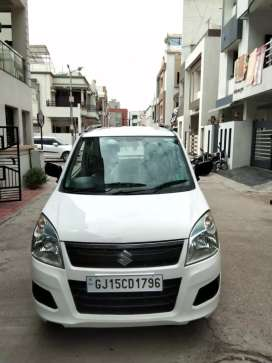license_plate: (86, 276, 164, 293)
